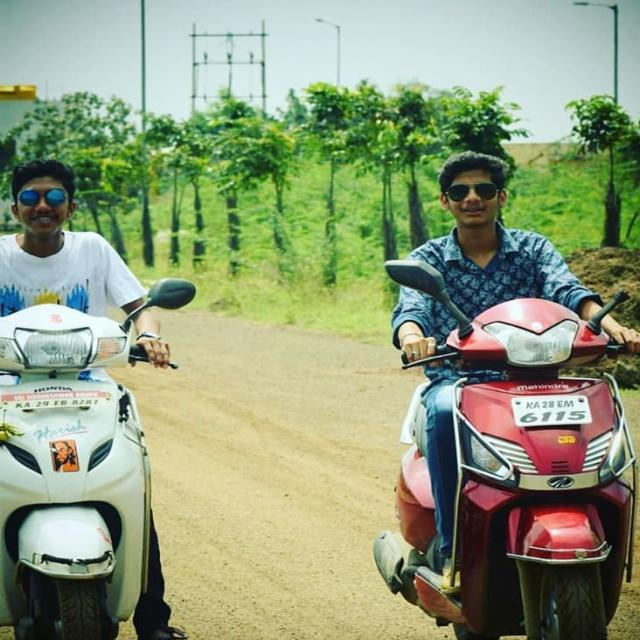No helmet: (7, 156, 89, 261), (437, 150, 512, 242)
